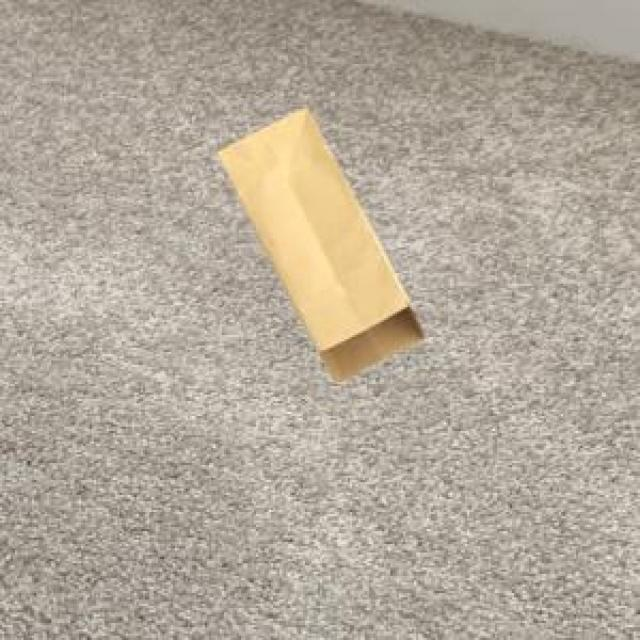paper: (213, 105, 420, 378)
